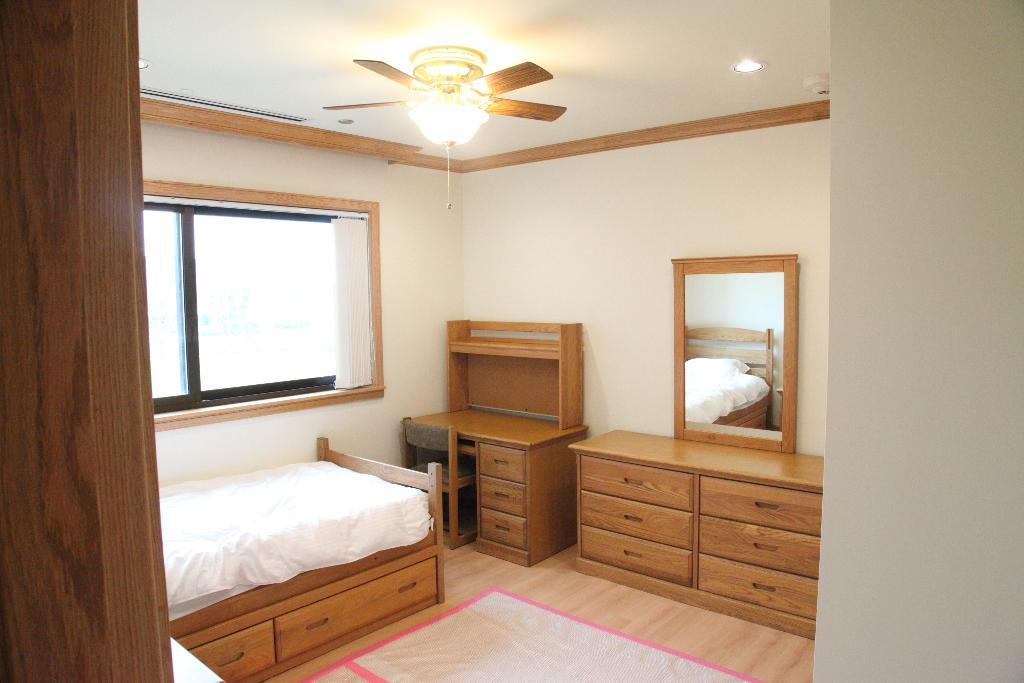Chair: (401, 416, 477, 549)
